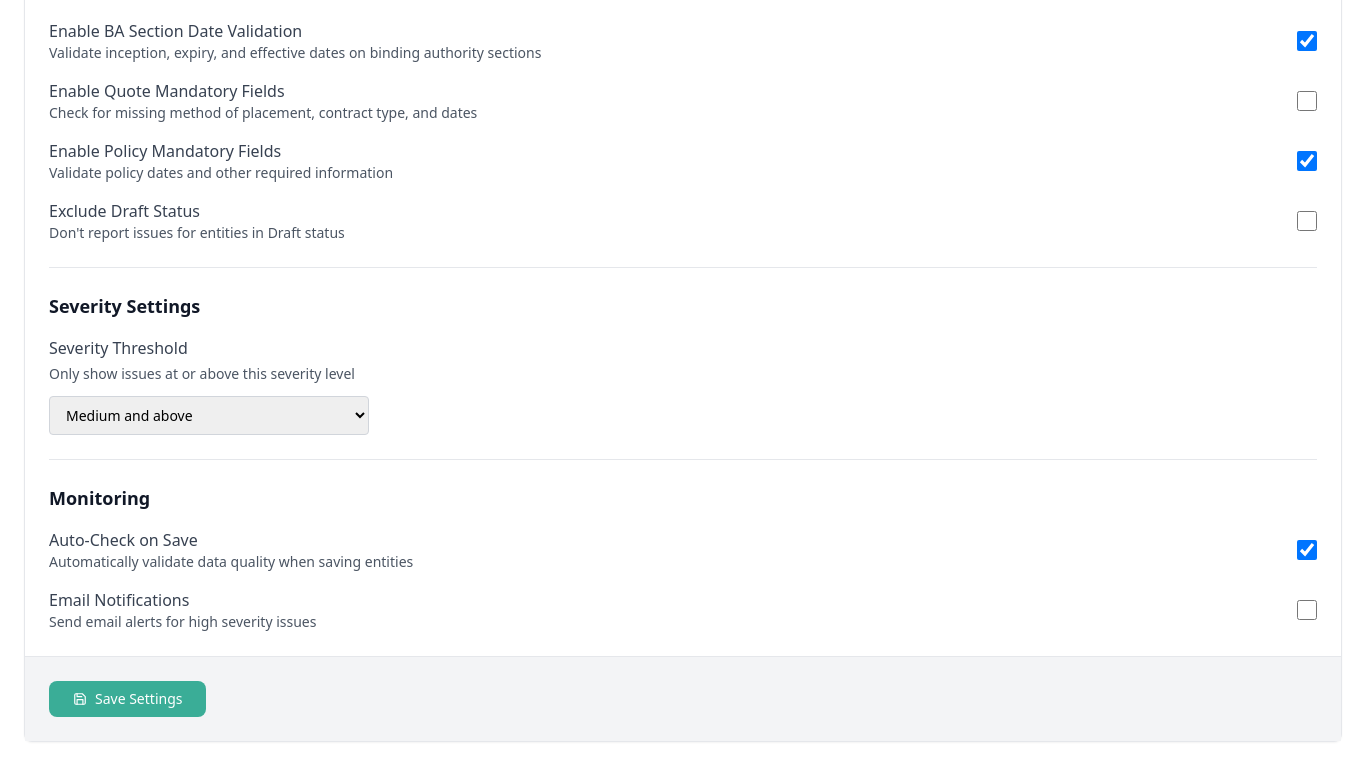
T-settings-dquality-R04: Notification Email input hidden when emailNotifications is off › shows Notification Email input after enabling Email Notifications toggle
(page scrolled)
Click the checkbox labelled "Email Notifications" at (1307, 610), box 1297,600 -> 1317,620
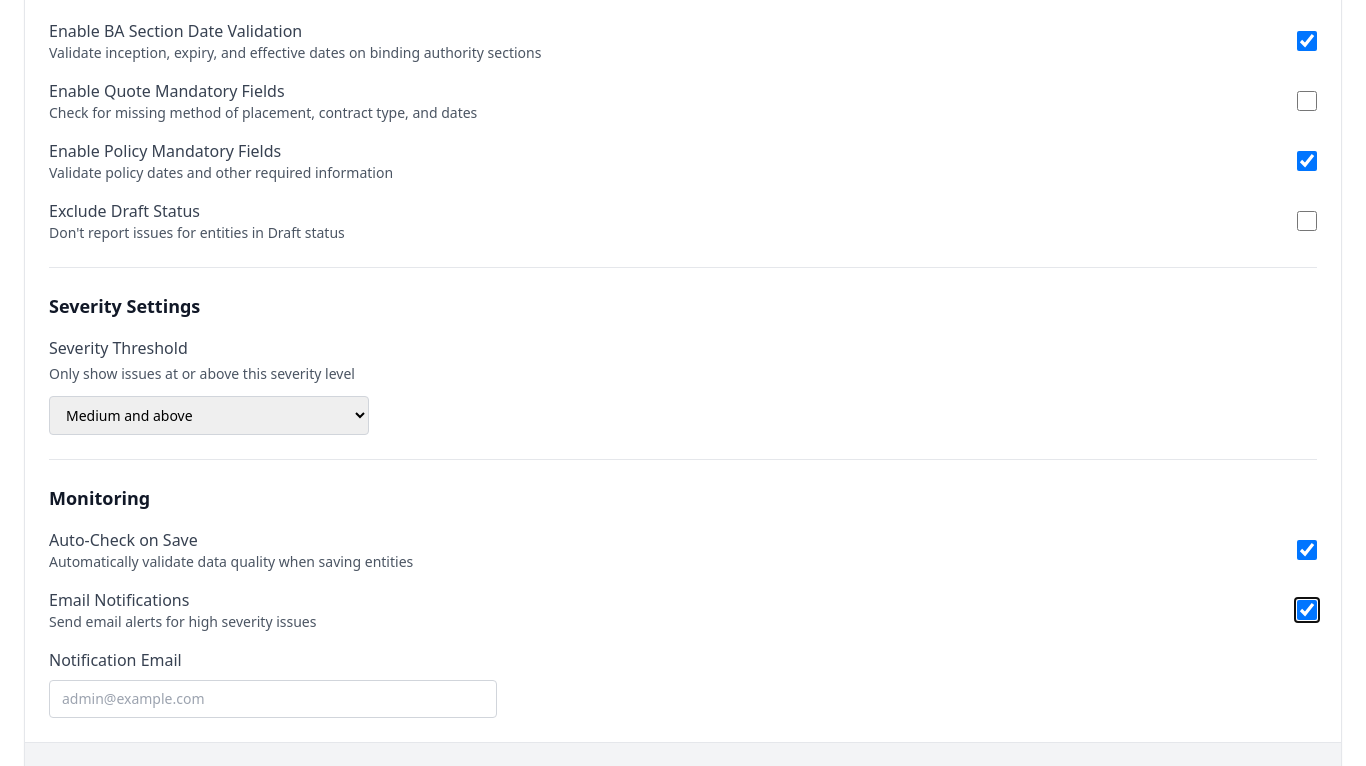
Result: the field labelled "Notification Email" is shown at 49,680 -> 497,718
